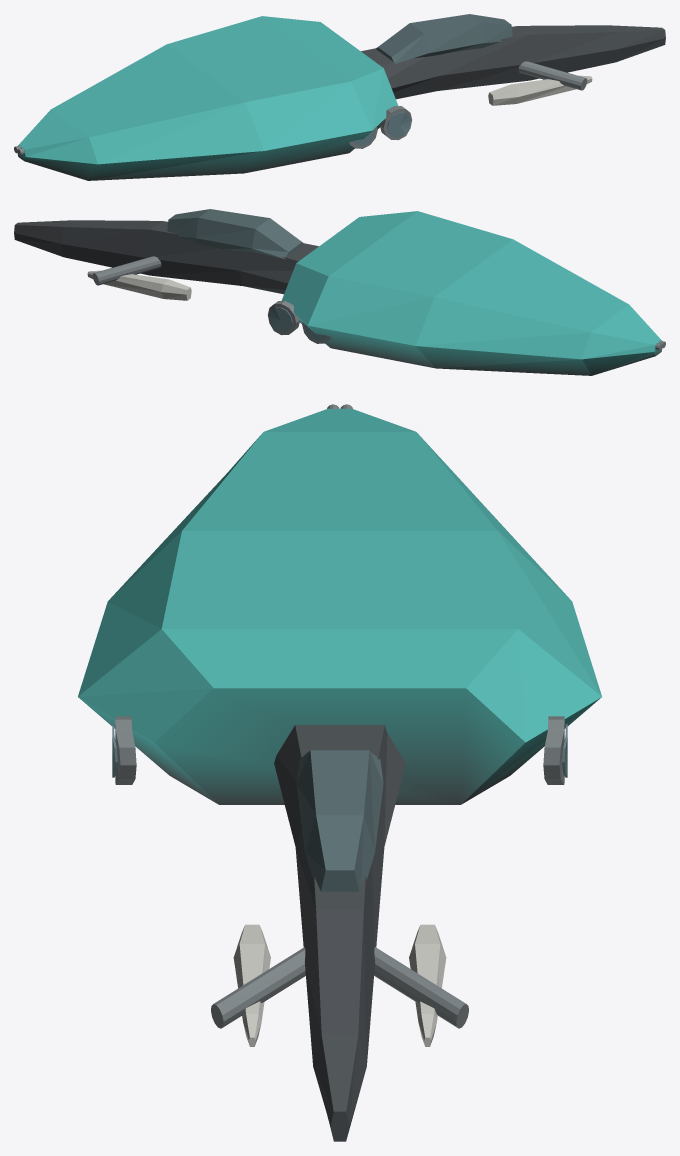
Rendered from opal_jet_teal_off.glb.
The picture shows the model from 3 angles, top to bottom: view 1: azimuth 30°, elevation 25°; view 2: azimuth 150°, elevation 25°; view 3: azimuth 270°, elevation 25°; orthographic projection. The views are drawn at different scales.
Parts seen in each view (by area): view 1: rear_lower_hull_0, front_spar_1, cockpit_shell_2, folded_pods_5, outrigger_support_4, side_thruster_face_7, side_thruster_casing_6; view 2: rear_lower_hull_0, front_spar_1, cockpit_shell_2, folded_pods_5, outrigger_support_4, side_thruster_face_7, side_thruster_casing_6; view 3: rear_lower_hull_0, front_spar_1, cockpit_shell_2, outrigger_support_4, folded_pods_5, side_thruster_casing_6.
Boxes of the visible parts, x1,y1,x2,y2 form: rear_lower_hull_0: (17, 16, 398, 180); front_spar_1: (361, 25, 665, 99); cockpit_shell_2: (376, 14, 512, 63); folded_pods_5: (488, 75, 592, 105); outrigger_support_4: (518, 61, 586, 90); side_thruster_face_7: (353, 112, 410, 145); side_thruster_casing_6: (349, 106, 411, 148); rear_lower_hull_0: (281, 211, 662, 375); front_spar_1: (14, 220, 318, 294); cockpit_shell_2: (167, 209, 304, 258); folded_pods_5: (87, 270, 191, 300); outrigger_support_4: (93, 256, 161, 285); side_thruster_face_7: (269, 307, 326, 340); side_thruster_casing_6: (268, 301, 331, 343); rear_lower_hull_0: (78, 408, 601, 804); front_spar_1: (274, 725, 405, 1141); cockpit_shell_2: (296, 750, 383, 891); outrigger_support_4: (211, 947, 468, 1028); folded_pods_5: (233, 924, 446, 1046); side_thruster_casing_6: (115, 716, 564, 784).
Size of the model in its own units: 9.96 by 1.25 by 3.5.
